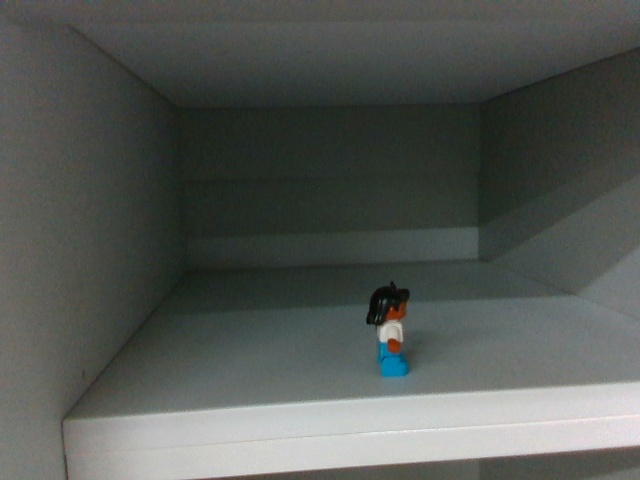people: (364, 285, 417, 382)
